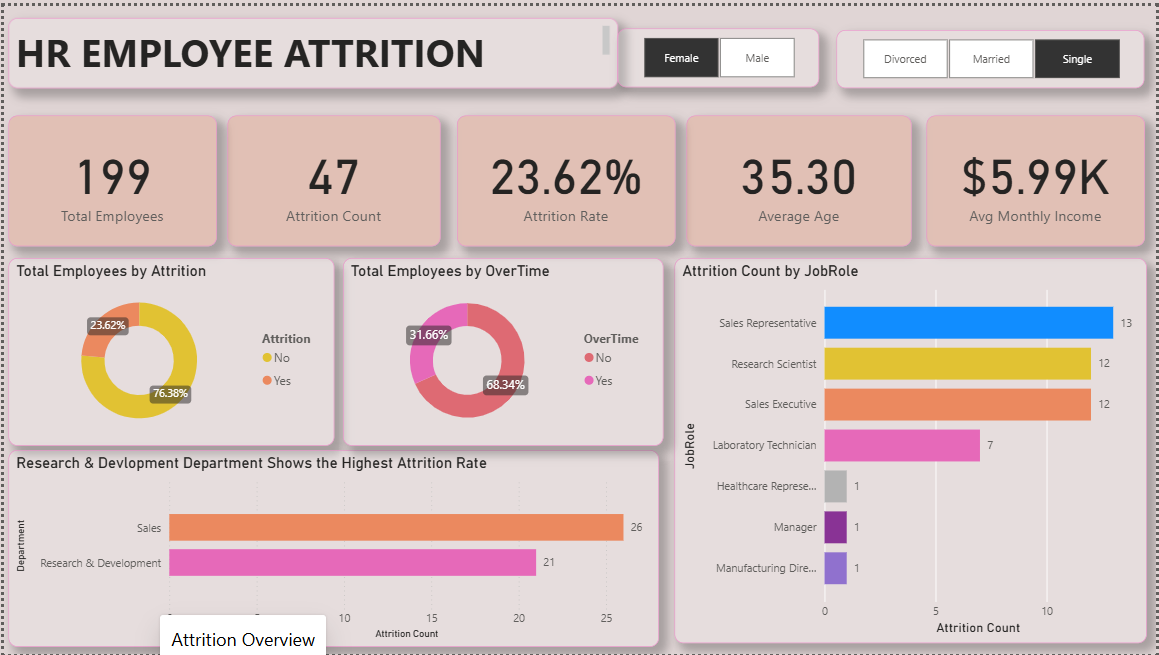

What the dashboard file says about the page in this screenshot:
{"tool":"powerbi","page":{"name":"Attrition Overview","canvas":[1280,720],"ordinal":0},"visuals":[{"type":"card","fields":{"Values":["HR-Employee-Attrition.Total Employees"]},"box":[5,121.9,231.4,145.5],"z":0},{"type":"card","fields":{"Values":["HR-Employee-Attrition.Attrition Count"]},"box":[248.8,121.9,236.4,145.5],"z":1000},{"type":"card","fields":{"Values":["HR-Employee-Attrition.Attrition Percentage"]},"box":[502.6,121.9,242.6,145.5],"z":2000},{"type":"card","fields":{"Values":["HR-Employee-Attrition.Average Age"]},"box":[757.6,121.9,250,145.5],"z":3000},{"type":"card","fields":{"Values":["HR-Employee-Attrition.Avg Monthly Income"]},"box":[1025,121.9,242.6,145.5],"z":4000},{"type":"donutChart","fields":{"Y":["HR-Employee-Attrition.Total Employees"],"Category":["HR-Employee-Attrition.Attrition"]},"box":[5,279.9,362,209],"z":5000},{"type":"barChart","title":"Research & Devlopment Department Shows the Highest Attrition Rate","fields":{"Category":["HR-Employee-Attrition.Department"],"Y":["HR-Employee-Attrition.Attrition Count"]},"box":[5,493.9,722.7,218.9],"z":6000},{"type":"barChart","fields":{"Category":["HR-Employee-Attrition.JobRole"],"Y":["HR-Employee-Attrition.Attrition Count"]},"box":[745.1,279.9,525,427.9],"z":7000},{"type":"donutChart","fields":{"Y":["HR-Employee-Attrition.Total Employees"],"Category":["HR-Employee-Attrition.OverTime"]},"box":[376.9,279.9,355.8,209],"z":8000},{"type":"textbox","box":[4.8,12.7,677.6,77.9],"z":9000},{"type":"slicer","fields":{"Values":["HR-Employee-Attrition.Gender"]},"box":[682.4,25.4,224.3,65.2],"z":10000},{"type":"slicer","fields":{"Values":["HR-Employee-Attrition.MaritalStatus"]},"box":[925.5,26.1,342.1,64.7],"z":11000}]}

Visuals, with their boxes in screenshot pixels (x1, y1, x2, y2), scaled from the page's 1280x720 canvas onto the 1159x655 screenshot:
card - HR-Employee-Attrition.Total Employees: (left=5, top=111, right=214, bottom=243)
card - HR-Employee-Attrition.Attrition Count: (left=225, top=111, right=439, bottom=243)
card - HR-Employee-Attrition.Attrition Percentage: (left=455, top=111, right=675, bottom=243)
card - HR-Employee-Attrition.Average Age: (left=686, top=111, right=912, bottom=243)
card - HR-Employee-Attrition.Avg Monthly Income: (left=928, top=111, right=1148, bottom=243)
donutChart - HR-Employee-Attrition.Total Employees x HR-Employee-Attrition.Attrition: (left=5, top=255, right=332, bottom=445)
"Research & Devlopment Department Shows the Highest Attrition Rate" barChart: (left=5, top=449, right=659, bottom=648)
barChart - HR-Employee-Attrition.JobRole x HR-Employee-Attrition.Attrition Count: (left=675, top=255, right=1150, bottom=644)
donutChart - HR-Employee-Attrition.Total Employees x HR-Employee-Attrition.OverTime: (left=341, top=255, right=663, bottom=445)
textbox: (left=4, top=12, right=618, bottom=82)
slicer - HR-Employee-Attrition.Gender: (left=618, top=23, right=821, bottom=82)
slicer - HR-Employee-Attrition.MaritalStatus: (left=838, top=24, right=1148, bottom=83)
